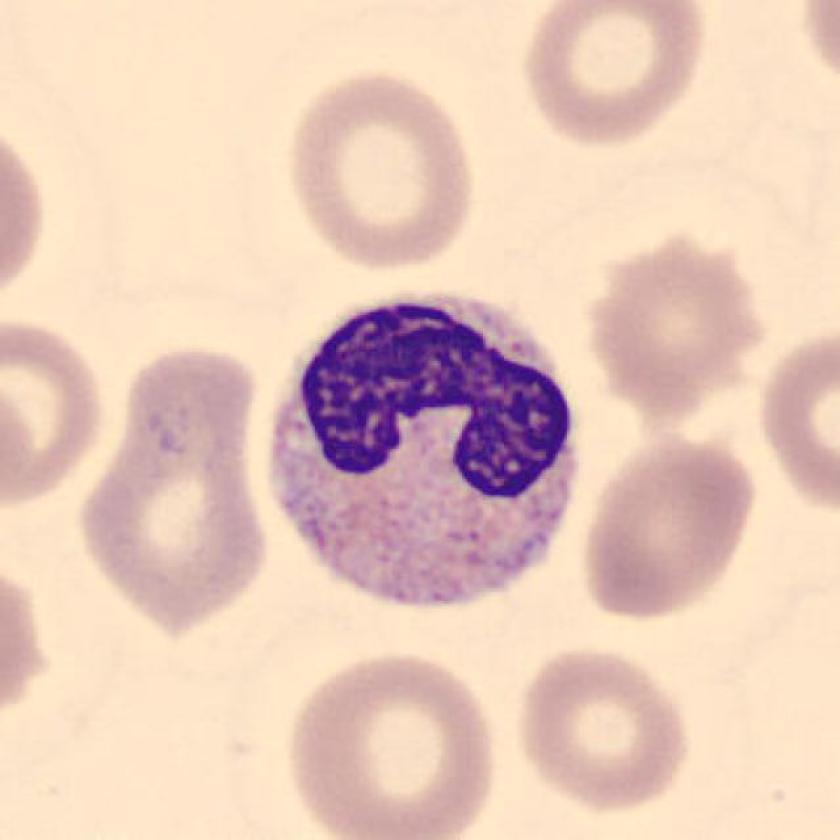neutrophil: (271, 294, 580, 609)
